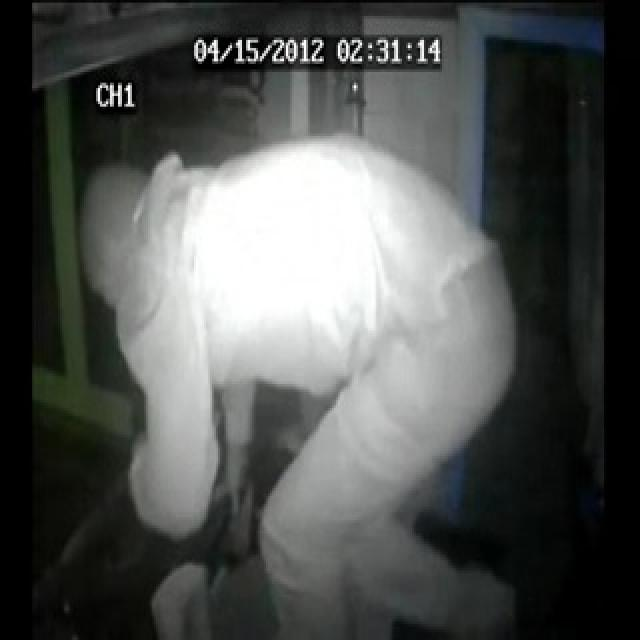thief: (49, 145, 164, 305)
